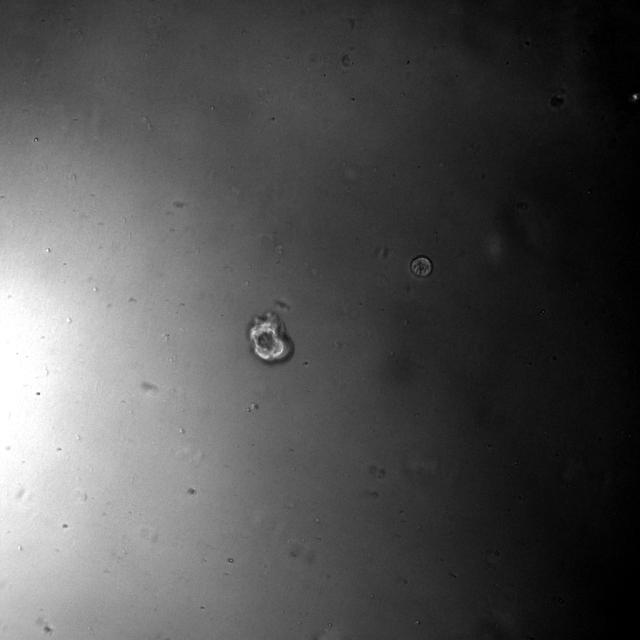organoid: (248, 311, 293, 364), (409, 255, 432, 278)
